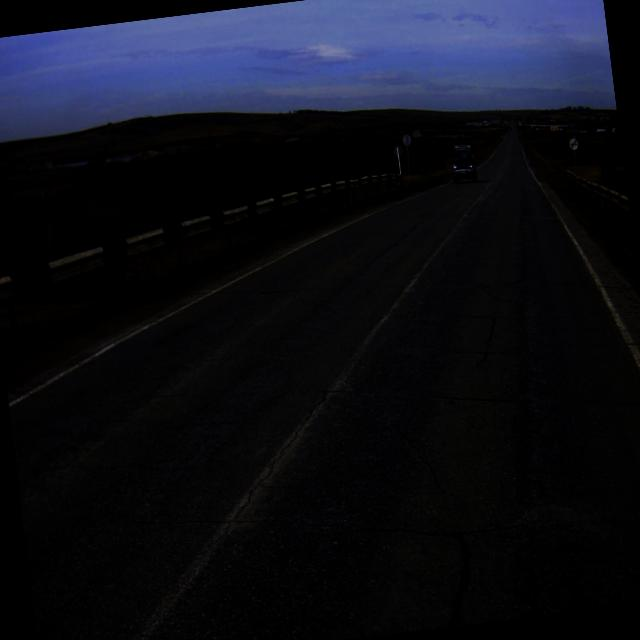road: (8, 130, 640, 640)
